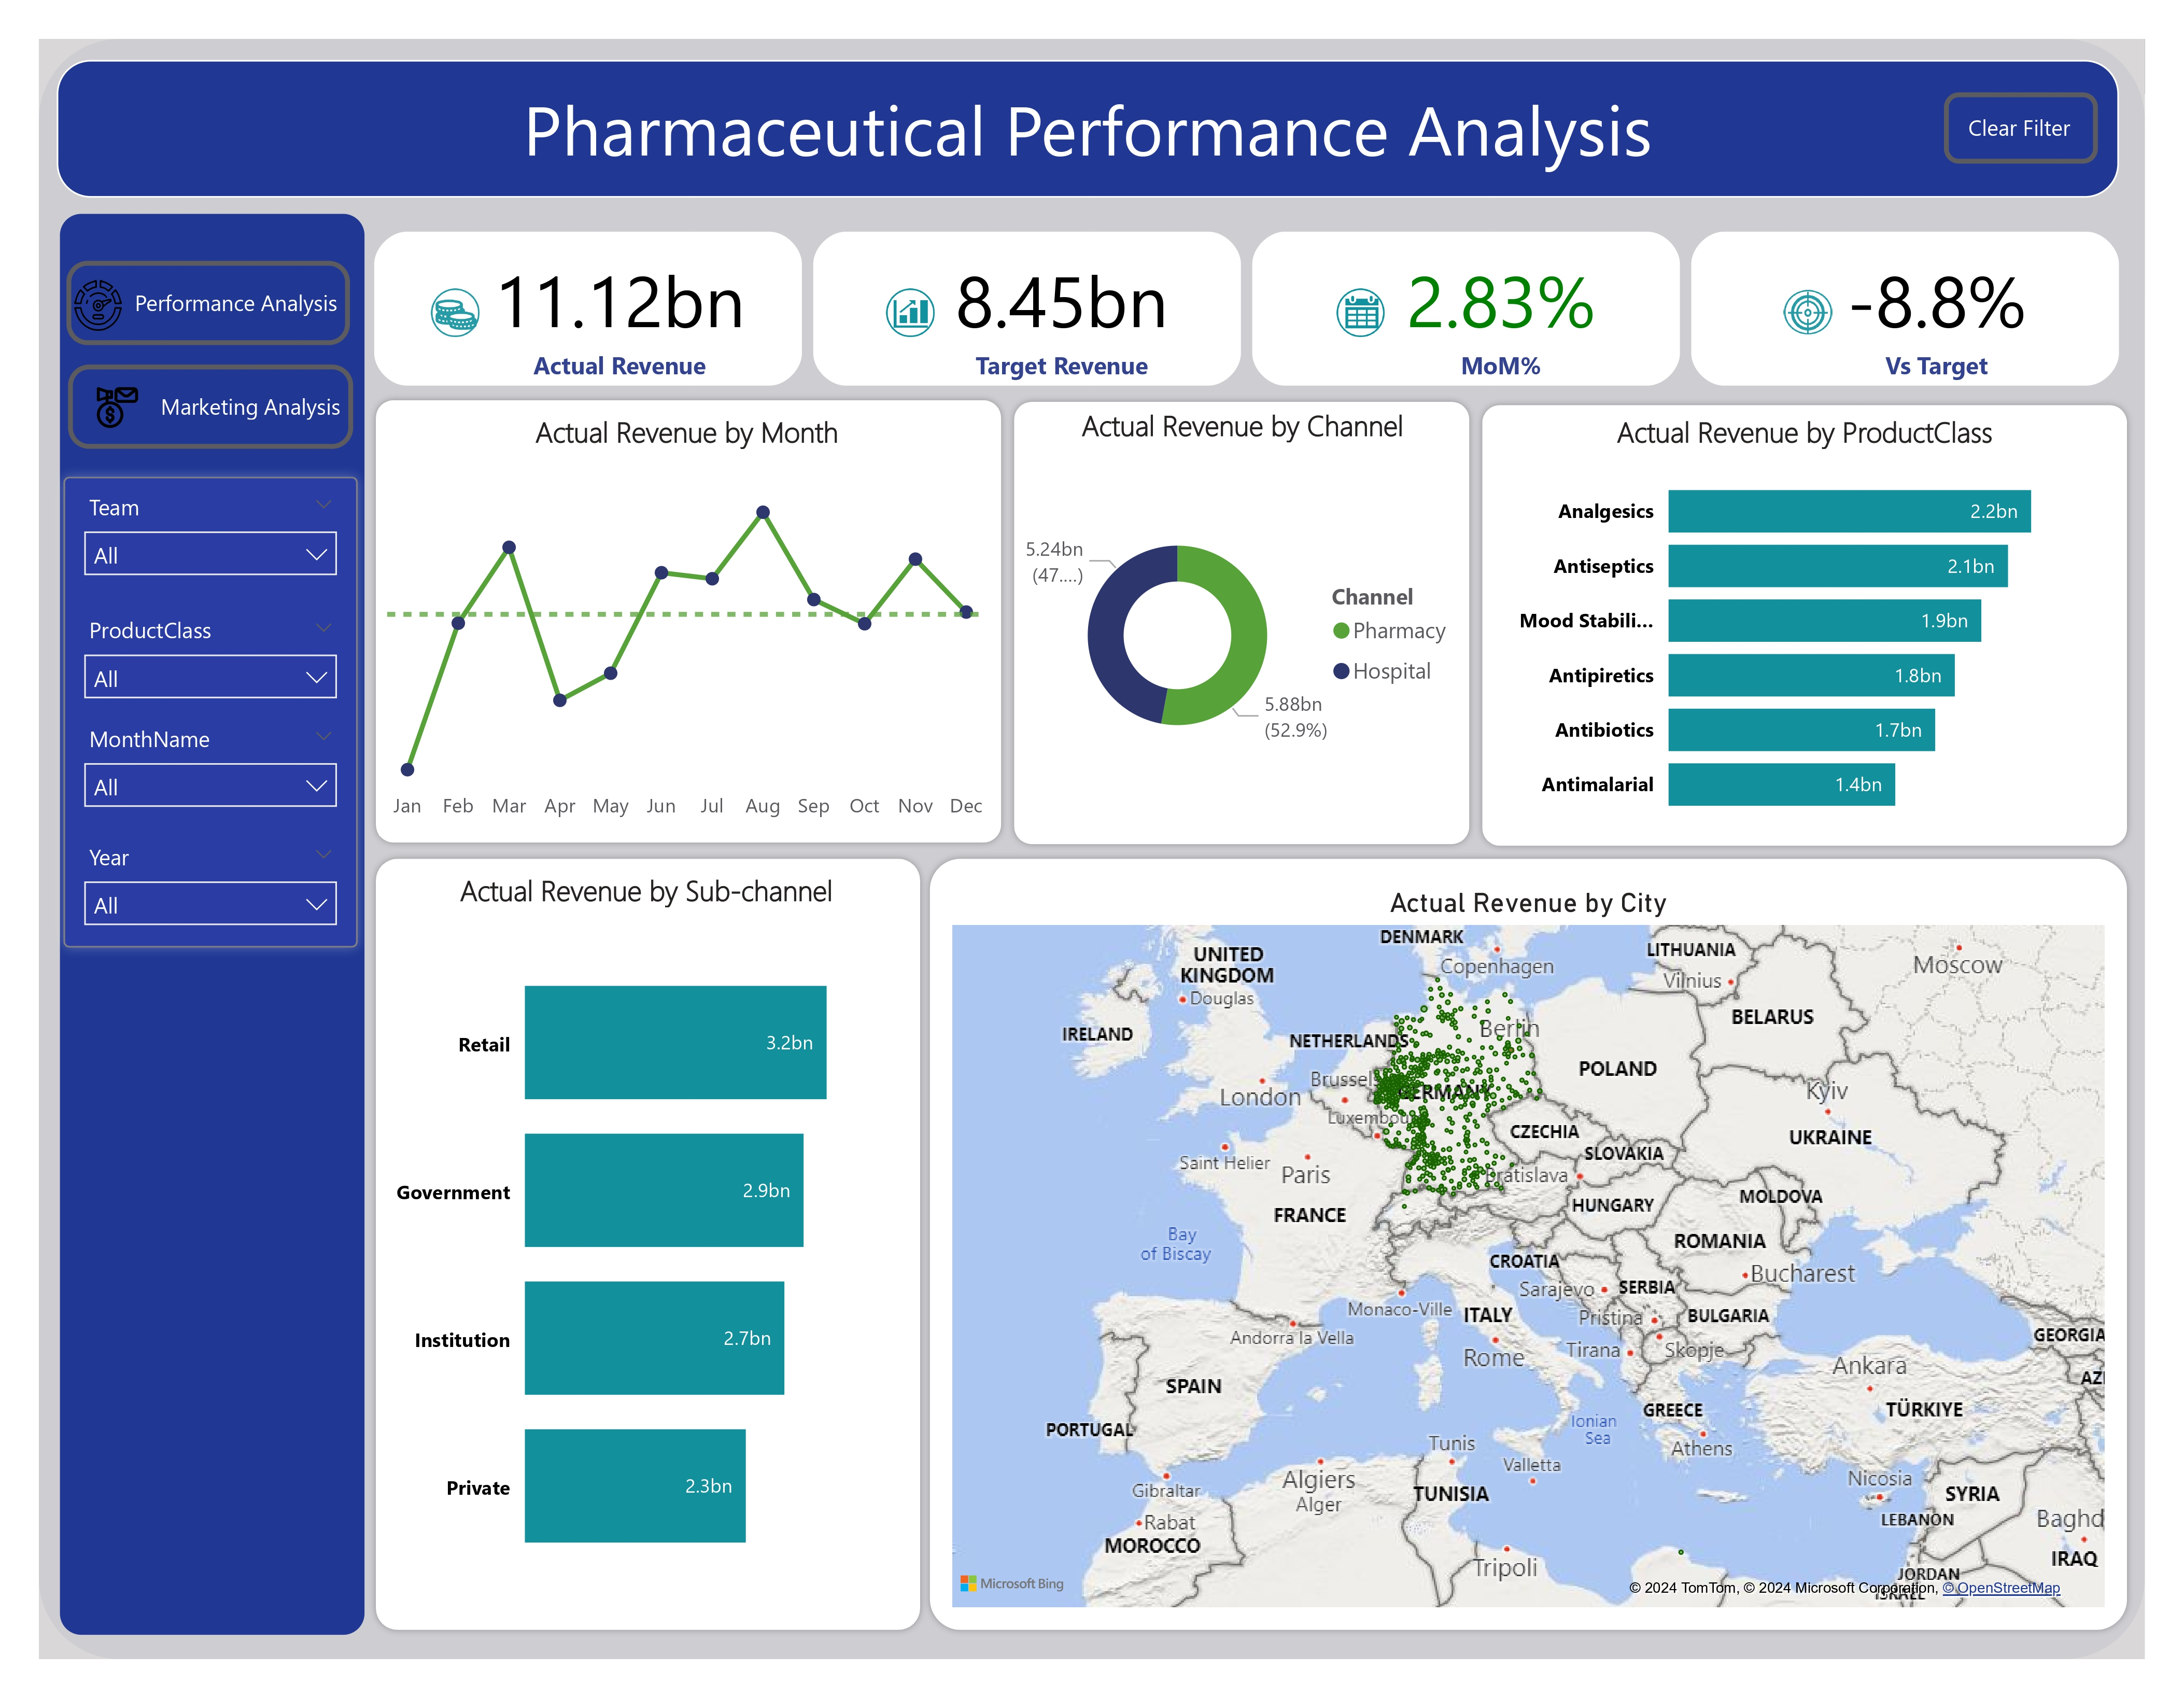

Layout of this report page (visuals, bound fields, positions):
{"tool":"powerbi","page":{"name":"Performance Analysis","canvas":[1300,1000],"ordinal":0},"visuals":[{"type":"shape","box":[0,0,1300,1000],"z":0},{"type":"textbox","box":[11.5,13.1,1272.1,85.2],"z":1000},{"type":"image","box":[21.5,208,52,38.7],"z":1000,"group":"g1"},{"type":"actionButton","box":[17.5,200.7,176,52],"z":1500,"group":"g1"},{"type":"shape","box":[13.3,107.7,187.7,877.7],"z":2000},{"type":"actionButton","box":[17.3,137.3,175.4,52.5],"z":2000,"group":"g2"},{"type":"image","box":[17.3,143.9,39.3,41],"z":3000,"group":"g2"},{"type":"group","id":"g1","title":"Group 2","box":[17.5,200.7,176,52],"z":3000},{"type":"group","id":"g2","title":"Group 1","box":[17.3,137.3,175.4,52.5],"z":4000},{"type":"cardVisual","fields":{"Data":["Performance_cal.Actual Revenue","Performance_cal.Target Revenue","Performance_cal.MoM%","Performance_cal.Vs Target"]},"box":[201.8,110.9,1090.9,110.9],"z":5000},{"type":"shape","box":[203.6,219,394,281],"z":7000},{"type":"shape","box":[597.6,220.2,289.3,281],"z":8000},{"type":"shape","box":[887.3,221.8,405.5,280],"z":9000},{"type":"barChart","fields":{"Y":["Performance_cal.Actual Revenue"],"Category":["DimProducts.ProductClass"]},"box":[897.1,230,386.2,262.7],"z":10000},{"type":"donutChart","fields":{"Y":["Performance_cal.Actual Revenue"],"Category":["Channel.Channel"]},"box":[602.9,226.4,279.7,262.7],"z":11000},{"type":"lineChart","fields":{"Category":["Calendar_Table.MonthName"],"Y":["Performance_cal.Actual Revenue"]},"box":[209.5,229.8,381,261.9],"z":12000},{"type":"shape","box":[203.6,501.8,344.6,483.9],"z":13000},{"type":"clusteredBarChart","fields":{"Category":["Channel.Sub-channel"],"Y":["Performance_cal.Actual Revenue"]},"box":[214.3,512.5,321.4,460.7],"z":14000},{"type":"shape","box":[546.4,501.8,746.4,483.9],"z":15000},{"type":"map","fields":{"Category":["DimLocation.City"],"Size":["Performance_cal.Actual Revenue"]},"box":[558.9,523.2,721.4,450],"z":16000},{"type":"actionButton","box":[1175.5,32.7,95.6,44.8],"z":17000},{"type":"shape","title":"Team","box":[8.5,262.7,196.1,305.1],"z":17000,"group":"g4"},{"type":"group","id":"g3","title":"Group 6","box":[8.5,262.7,196.1,305.1],"z":18000},{"type":"slicer","fields":{"Values":["DimEmployees.Team"]},"box":[18.8,274.8,175.5,64.2],"z":19000,"group":"g4"},{"type":"slicer","fields":{"Values":["DimProducts.ProductClass"]},"box":[18.8,351.1,175.5,64.2],"z":20000,"group":"g4"},{"type":"group","id":"g4","title":"Group 4","box":[8.5,262.7,196.1,305.1],"z":20001,"group":"g5"},{"type":"slicer","fields":{"Values":["Calendar_Table.MonthName"]},"box":[18.8,417.7,175.5,64.2],"z":20501,"group":"g5"},{"type":"group","id":"g5","title":"Group 5","box":[8.5,262.7,196.1,305.1],"z":20502,"group":"g3"},{"type":"slicer","fields":{"Values":["Calendar_Table.Year"]},"box":[18.8,490.3,175.5,64.2],"z":21002,"group":"g3"}]}

Visuals, with their boxes on the page's 1300x1000 design canvas (x1, y1, x2, y2). These are canvas units, not pixel positions in the 2184x1698 screenshot, which may show the page scaled, cropped or inside an application window:
shape: {"left": 0, "top": 0, "right": 1300, "bottom": 1000}
textbox: {"left": 12, "top": 13, "right": 1284, "bottom": 98}
image: {"left": 22, "top": 208, "right": 74, "bottom": 247}
actionButton: {"left": 18, "top": 201, "right": 194, "bottom": 253}
shape: {"left": 13, "top": 108, "right": 201, "bottom": 985}
actionButton: {"left": 17, "top": 137, "right": 193, "bottom": 190}
image: {"left": 17, "top": 144, "right": 57, "bottom": 185}
"Group 2" group: {"left": 18, "top": 201, "right": 194, "bottom": 253}
"Group 1" group: {"left": 17, "top": 137, "right": 193, "bottom": 190}
cardVisual - Performance_cal.Actual Revenue x Performance_cal.Target Revenue: {"left": 202, "top": 111, "right": 1293, "bottom": 222}
shape: {"left": 204, "top": 219, "right": 598, "bottom": 500}
shape: {"left": 598, "top": 220, "right": 887, "bottom": 501}
shape: {"left": 887, "top": 222, "right": 1293, "bottom": 502}
barChart - Performance_cal.Actual Revenue x DimProducts.ProductClass: {"left": 897, "top": 230, "right": 1283, "bottom": 493}
donutChart - Performance_cal.Actual Revenue x Channel.Channel: {"left": 603, "top": 226, "right": 883, "bottom": 489}
lineChart - Calendar_Table.MonthName x Performance_cal.Actual Revenue: {"left": 210, "top": 230, "right": 590, "bottom": 492}
shape: {"left": 204, "top": 502, "right": 548, "bottom": 986}
clusteredBarChart - Channel.Sub-channel x Performance_cal.Actual Revenue: {"left": 214, "top": 512, "right": 536, "bottom": 973}
shape: {"left": 546, "top": 502, "right": 1293, "bottom": 986}
map - DimLocation.City x Performance_cal.Actual Revenue: {"left": 559, "top": 523, "right": 1280, "bottom": 973}
actionButton: {"left": 1176, "top": 33, "right": 1271, "bottom": 78}
"Team" shape: {"left": 8, "top": 263, "right": 205, "bottom": 568}
"Group 6" group: {"left": 8, "top": 263, "right": 205, "bottom": 568}
slicer - DimEmployees.Team: {"left": 19, "top": 275, "right": 194, "bottom": 339}
slicer - DimProducts.ProductClass: {"left": 19, "top": 351, "right": 194, "bottom": 415}
"Group 4" group: {"left": 8, "top": 263, "right": 205, "bottom": 568}
slicer - Calendar_Table.MonthName: {"left": 19, "top": 418, "right": 194, "bottom": 482}
"Group 5" group: {"left": 8, "top": 263, "right": 205, "bottom": 568}
slicer - Calendar_Table.Year: {"left": 19, "top": 490, "right": 194, "bottom": 554}
